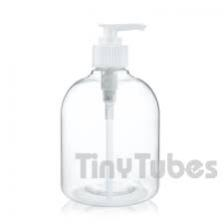plastic: (59, 21, 164, 204)
